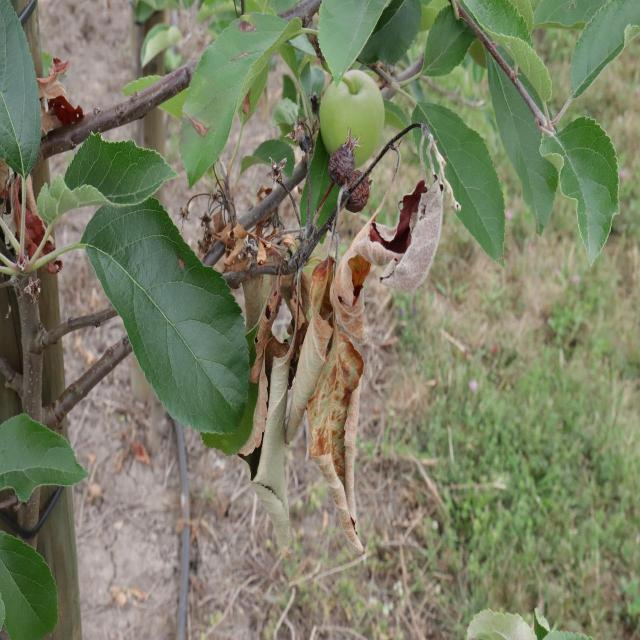-FireBlight-: (309, 226, 366, 533), (247, 263, 310, 503), (366, 168, 466, 288), (183, 190, 294, 276), (2, 168, 64, 274), (32, 52, 62, 142)
